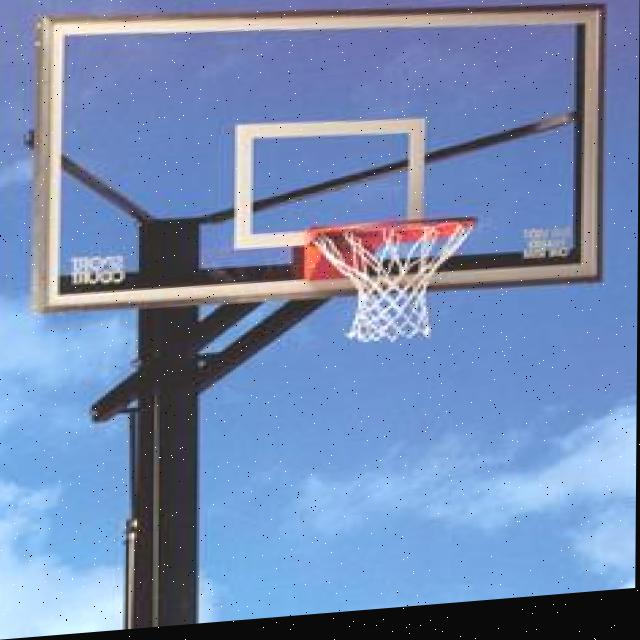hoop: (303, 204, 497, 355)
